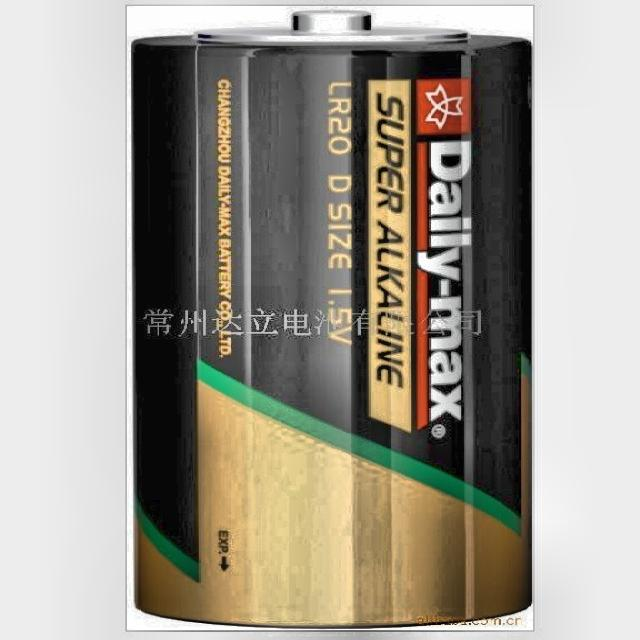Non-Valuable Waste - Batteries: (132, 12, 531, 626)
